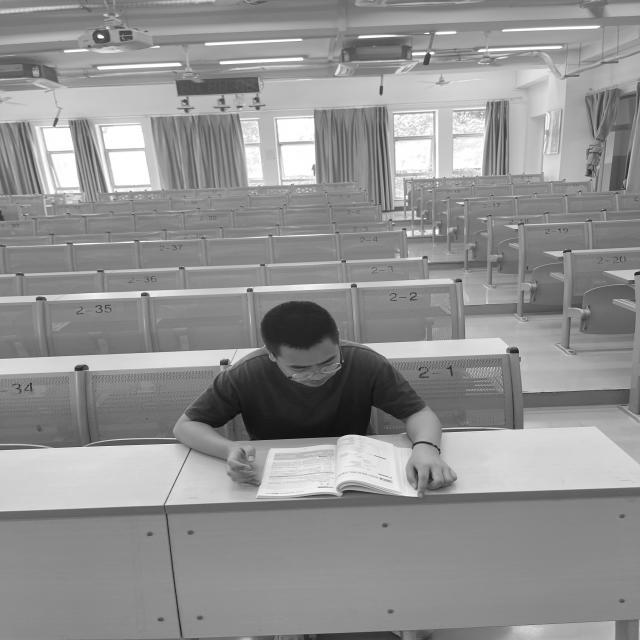study: (173, 303, 458, 492)
